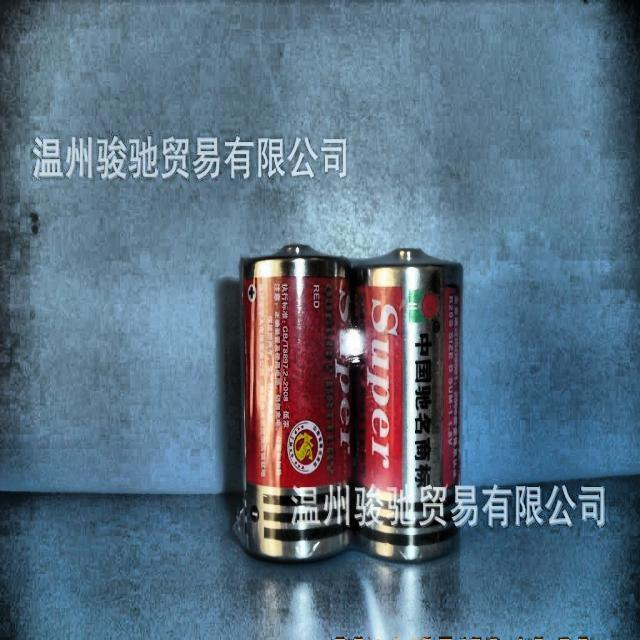battery: (235, 246, 352, 561), (352, 250, 462, 561)
